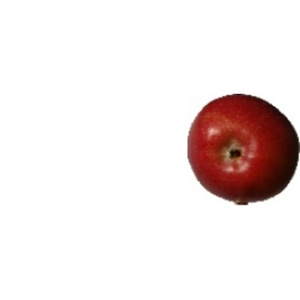maçã braeburn: (186, 92, 300, 197)
